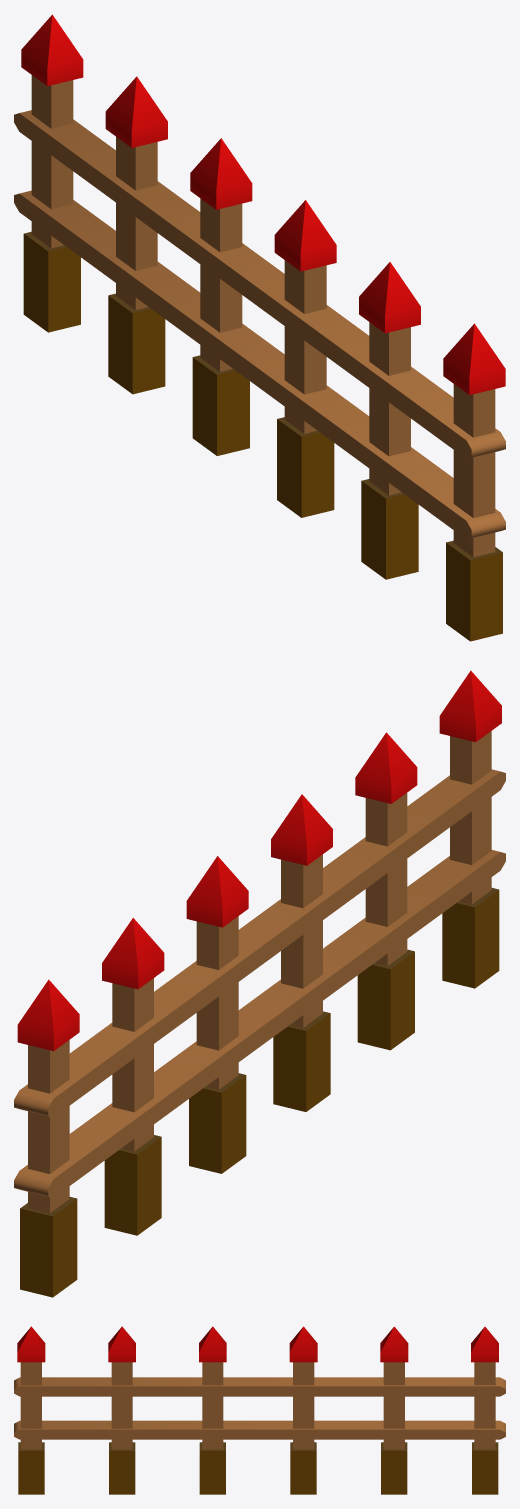
The model's file is Lunapark_Fences.fbx.
The picture shows the model from 3 angles, top to bottom: view 1: azimuth 30°, elevation 25°; view 2: azimuth 150°, elevation 25°; view 3: azimuth 270°, elevation 25°; orthographic projection. The views are drawn at different scales.
Parts seen in each view (by area): view 1: Lunapark_Fences; view 2: Lunapark_Fences; view 3: Lunapark_Fences.
Part boxes in pixels (x1,y1,x2,y2): Lunapark_Fences: (14,14,505,641); Lunapark_Fences: (14,670,505,1297); Lunapark_Fences: (14,1326,505,1494).
Size of the model in its own units: 0.5489 by 4.33 by 11.76.
